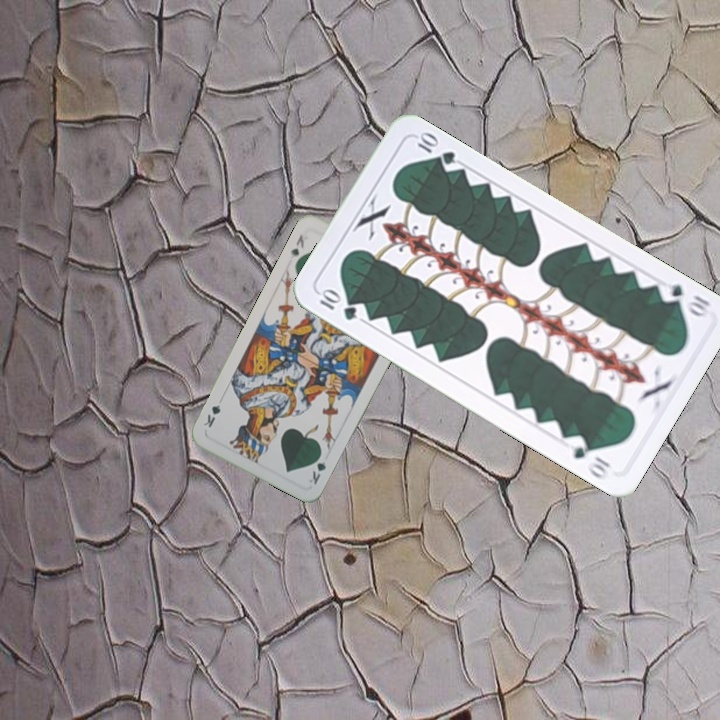G10: (654, 277, 715, 320), (315, 284, 360, 323)
GK: (305, 448, 329, 487), (286, 230, 307, 262)
